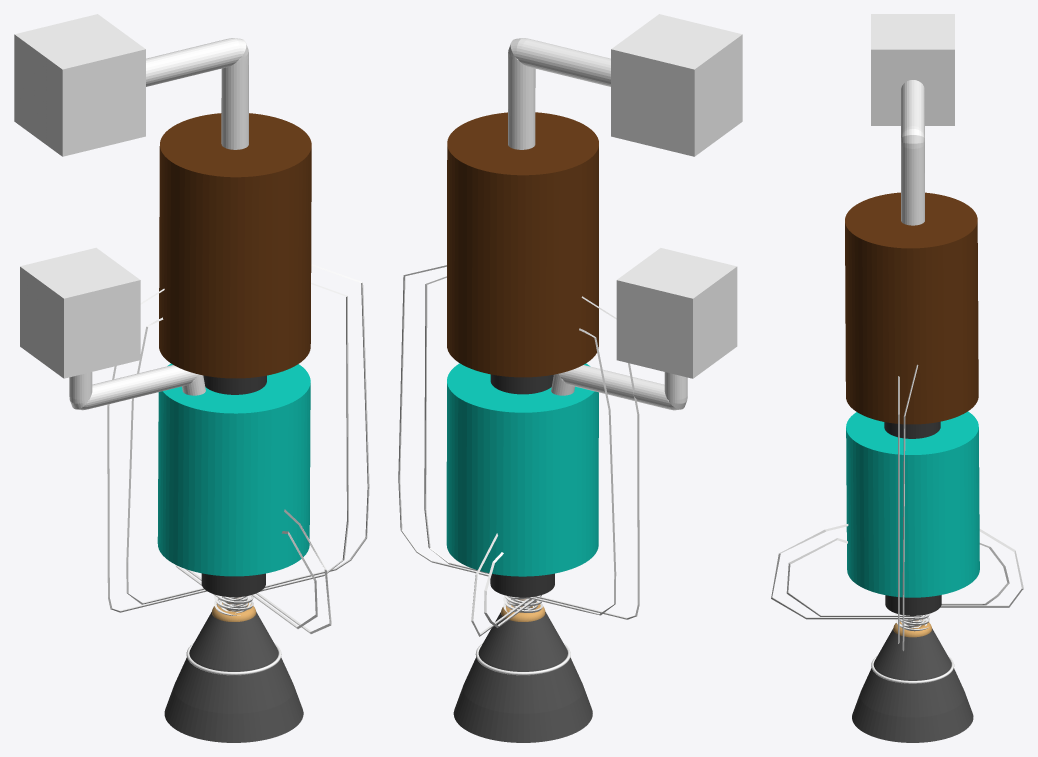
File: aj10cquick.glb
The picture shows the model from 3 angles, left to right: view 1: azimuth 30°, elevation 25°; view 2: azimuth 150°, elevation 25°; view 3: azimuth 270°, elevation 25°; orthographic projection. The views are drawn at different scales.
Parts seen in each view (by area): view 1: fuel, oxidizer, fp, op, chamber, spine (×2), f1, f2, f3, f4, o3, o4; view 2: fuel, oxidizer, fp, op, chamber, spine (×2), f3, f4, f1, f2; view 3: fuel, oxidizer, fp, chamber, spine (×2), o3, f1, f2, o4, o1, o2.
Boxes of the visible parts, box(x1,y1,x2,y2) form: fuel: box(159, 113, 311, 378); oxidizer: box(157, 363, 310, 576); fp: box(14, 14, 248, 156); op: box(20, 247, 205, 410); chamber: box(164, 597, 303, 742); spine (×2): box(201, 375, 266, 597); f1: box(223, 264, 369, 611); f2: box(218, 282, 348, 613); f3: box(107, 288, 245, 612); f4: box(126, 317, 250, 607); o3: box(214, 509, 331, 633); o4: box(220, 531, 317, 628); fuel: box(447, 112, 598, 377); oxidizer: box(446, 363, 598, 576); fp: box(508, 14, 742, 156); op: box(551, 248, 737, 410); chamber: box(453, 598, 592, 742); spine (×2): box(490, 374, 554, 597); f3: box(513, 296, 639, 619); f4: box(507, 328, 616, 615); f1: box(398, 265, 533, 607); f2: box(424, 276, 536, 605); fuel: box(845, 192, 978, 424); oxidizer: box(846, 411, 979, 597); fp: box(871, 14, 954, 225); chamber: box(852, 619, 973, 742); spine (×2): box(884, 421, 941, 615); o3: box(771, 524, 929, 631); f1: box(902, 364, 921, 651); f2: box(898, 376, 926, 643); o4: box(786, 538, 923, 628); o1: box(900, 529, 1023, 623); o2: box(895, 543, 1009, 625).
Bounding box in the file's own units: 5.82 × 12.11 × 4.48.
